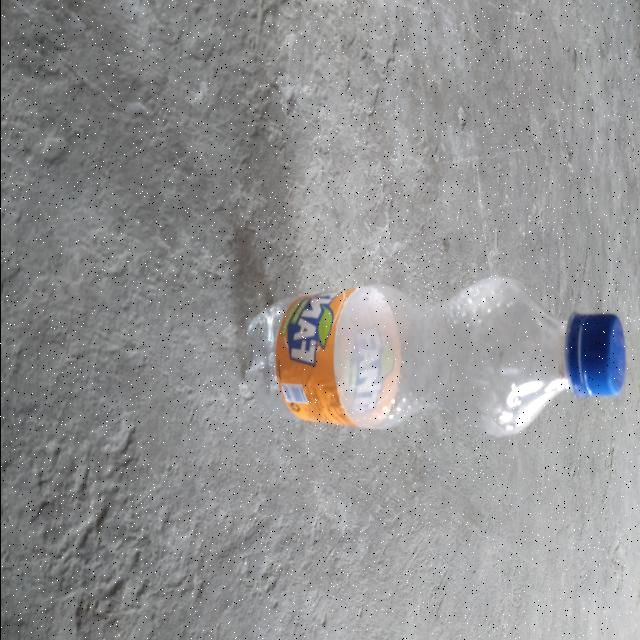plastic: (232, 269, 634, 453)
